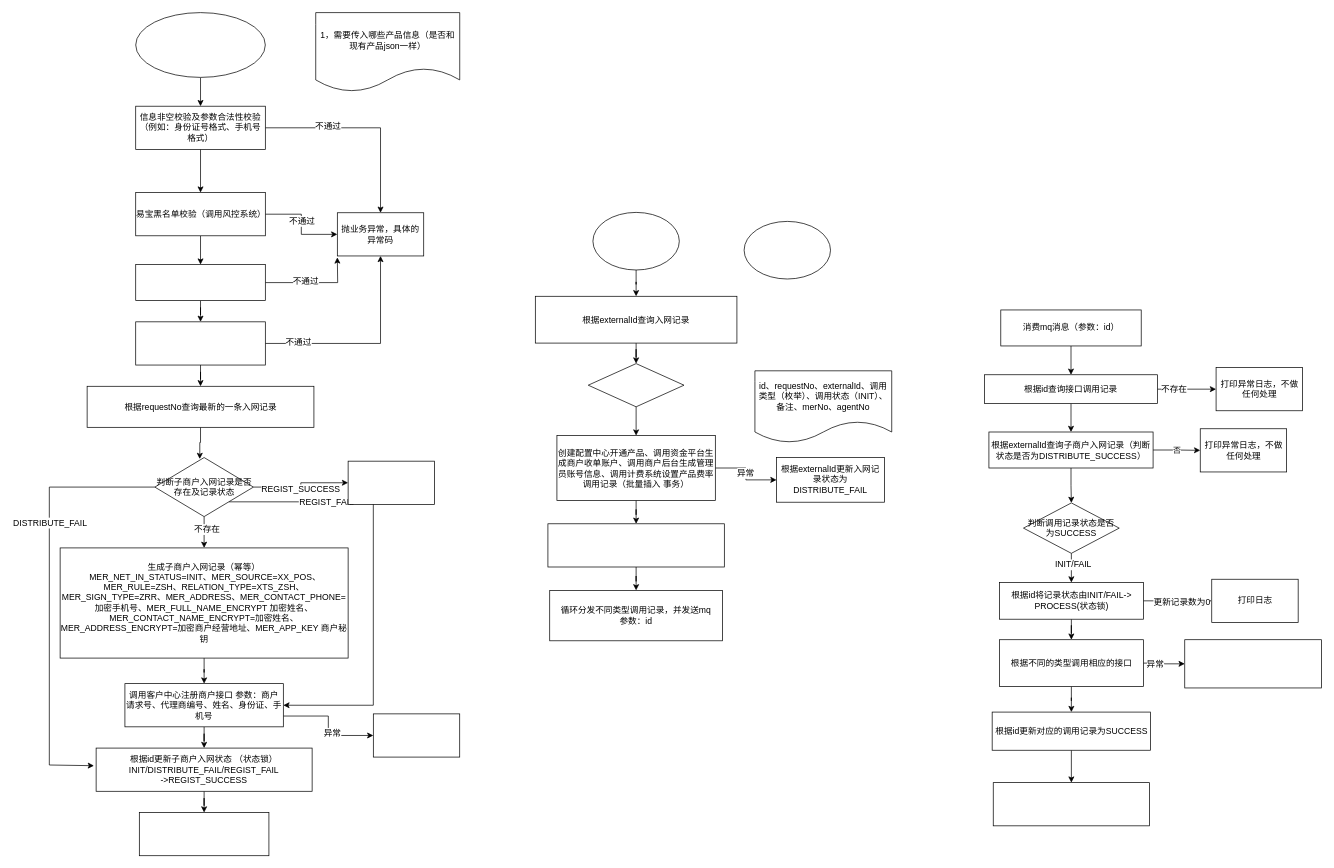
The diagram is 1334 pixels wide and 868 high, and some of its shapes have lost their labels. Each missing label, with the box of its shape:
1）根据ID更新入网记录为 REGIST_FAIL 2）抛出异常阻断流程（详细的异常码）: (373, 713, 460, 757)
个人信息实名认证（调用认证模块）: (135, 264, 265, 301)
判断商户入网记录是否存在且为REGIST_SUCCESS: (588, 363, 684, 407)
发起子商户入网 参数：商户 请求号、代理商编号、姓名、身份证、手机号、商户经营地址、产品信息: (135, 12, 265, 77)
发送mq，入网后续处理流程 mq参数：externalId: (139, 812, 269, 856)
定时发起（支持单个和）: (743, 221, 831, 279)
开通产品信息校验（格式校验及代理商底价校验）: (135, 321, 265, 365)
打印日志，不做任何处理: (347, 460, 435, 504)
根据externalId更新入网记录状态为 DISTRIBUTE_SUCCESS: (547, 523, 724, 567)
根据externalId查询记录（统计succCnt==totalCnt），则根据externalId 更新子商户入网记录状态SUCCESS: (993, 782, 1149, 826)
根据id更新对应的调用记录为FAIL: (1184, 639, 1322, 688)
消费mq：参数 externalId: (592, 212, 679, 270)
